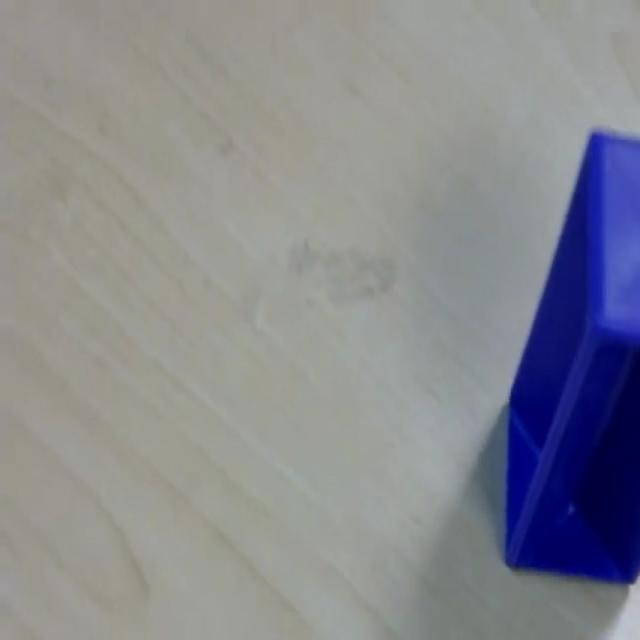blue_block: (502, 124, 638, 584)
